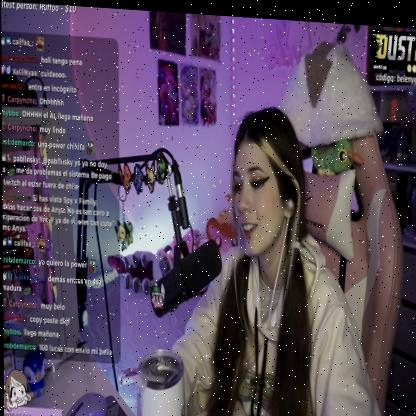streamer: (106, 91, 392, 416)
